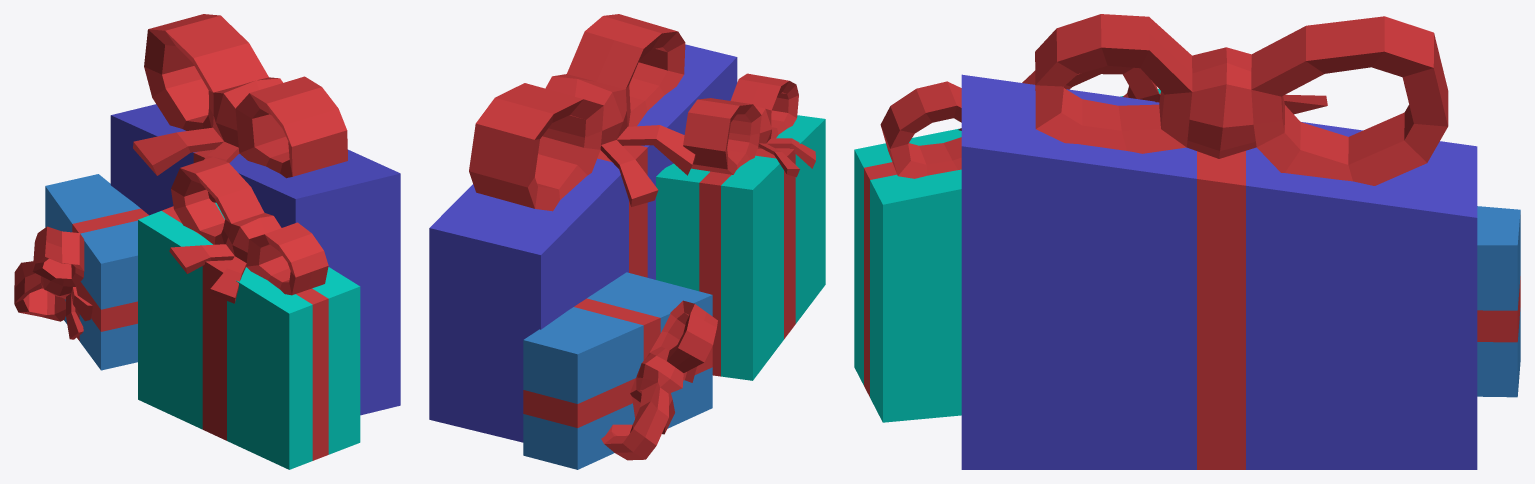
File: present.fbx
The picture shows the model from 3 angles, left to right: view 1: azimuth 30°, elevation 25°; view 2: azimuth 150°, elevation 25°; view 3: azimuth 270°, elevation 25°; orthographic projection. The views are drawn at different scales.
Visible parts, largest first — view 1: Cube; view 2: Cube; view 3: Cube.
Part boxes in pixels (bbox=[...]): Cube: bbox=[14, 14, 400, 469]; Cube: bbox=[429, 14, 825, 469]; Cube: bbox=[854, 14, 1520, 469].
Size of the model in its own units: 13.21 by 16.31 by 24.41.
